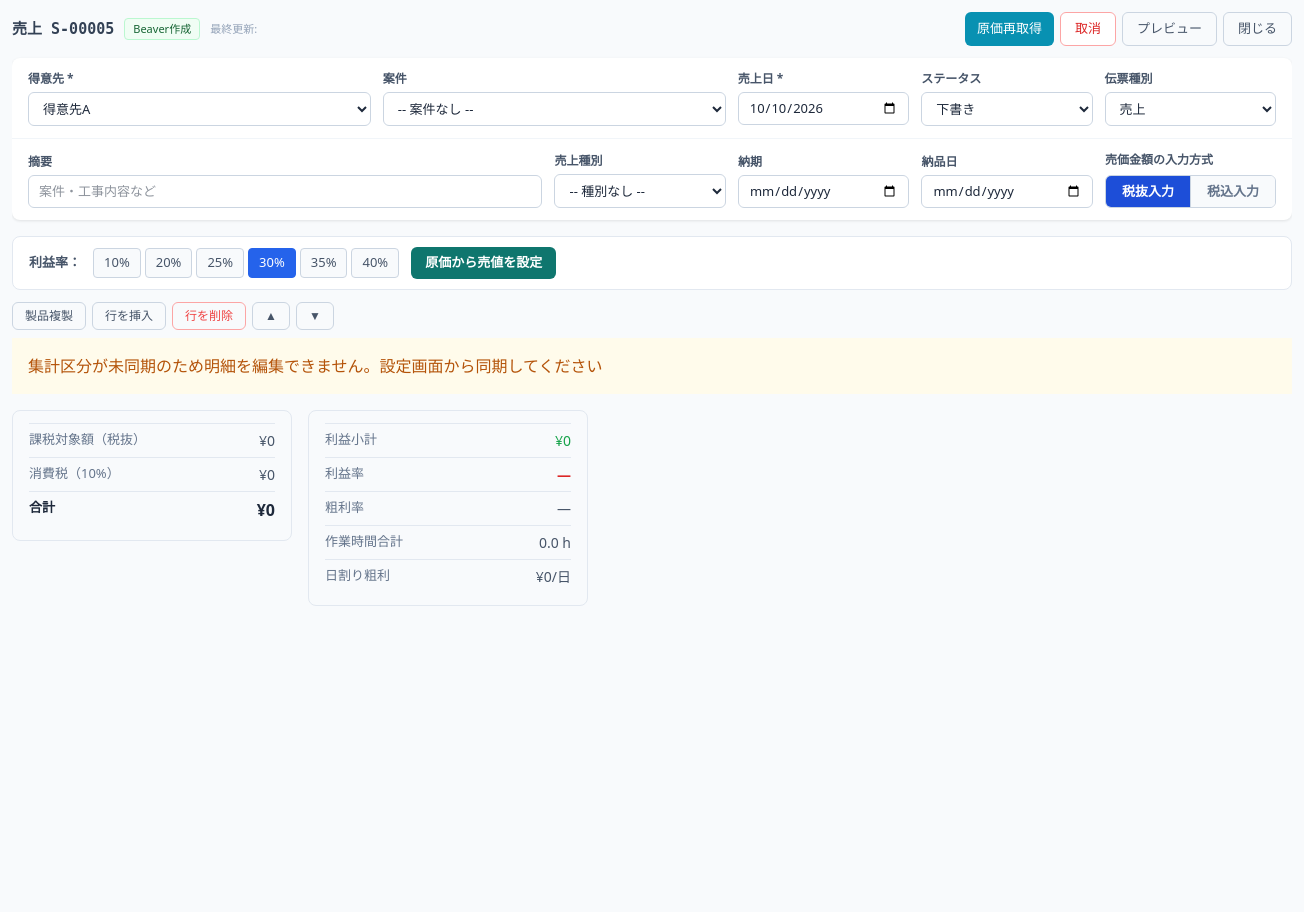
R-0164 伝票ヘッダーの自動保存と離脱警告 › 保存失敗を表示し、再試行で保存できる
Expected: the date field showing "2026-10-10" below "売上日 *" is shown, [738,92,909,125]
Type "再試行対象" into the field named "description" at (285,191), box [28,174,542,208]
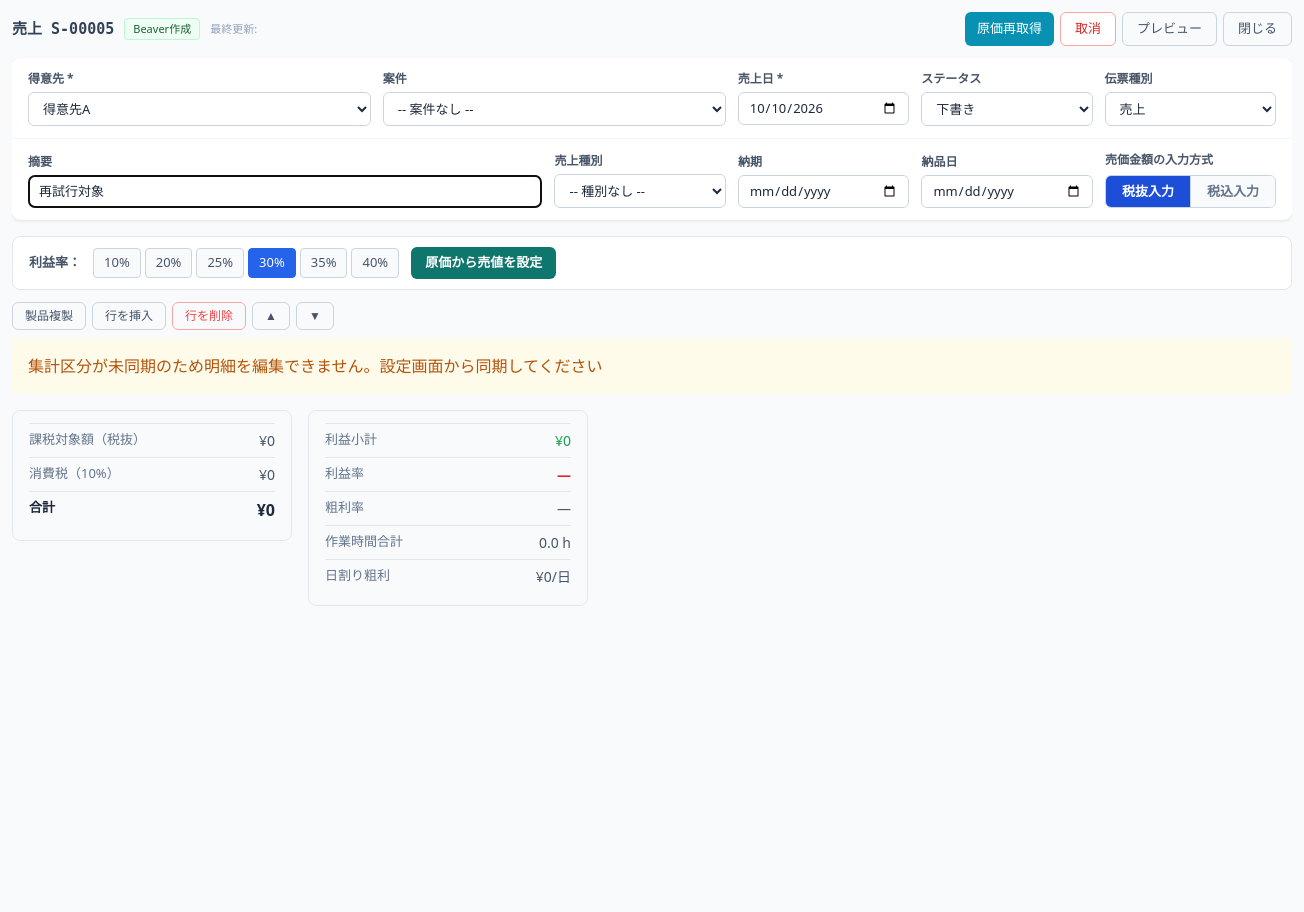
Press Tab
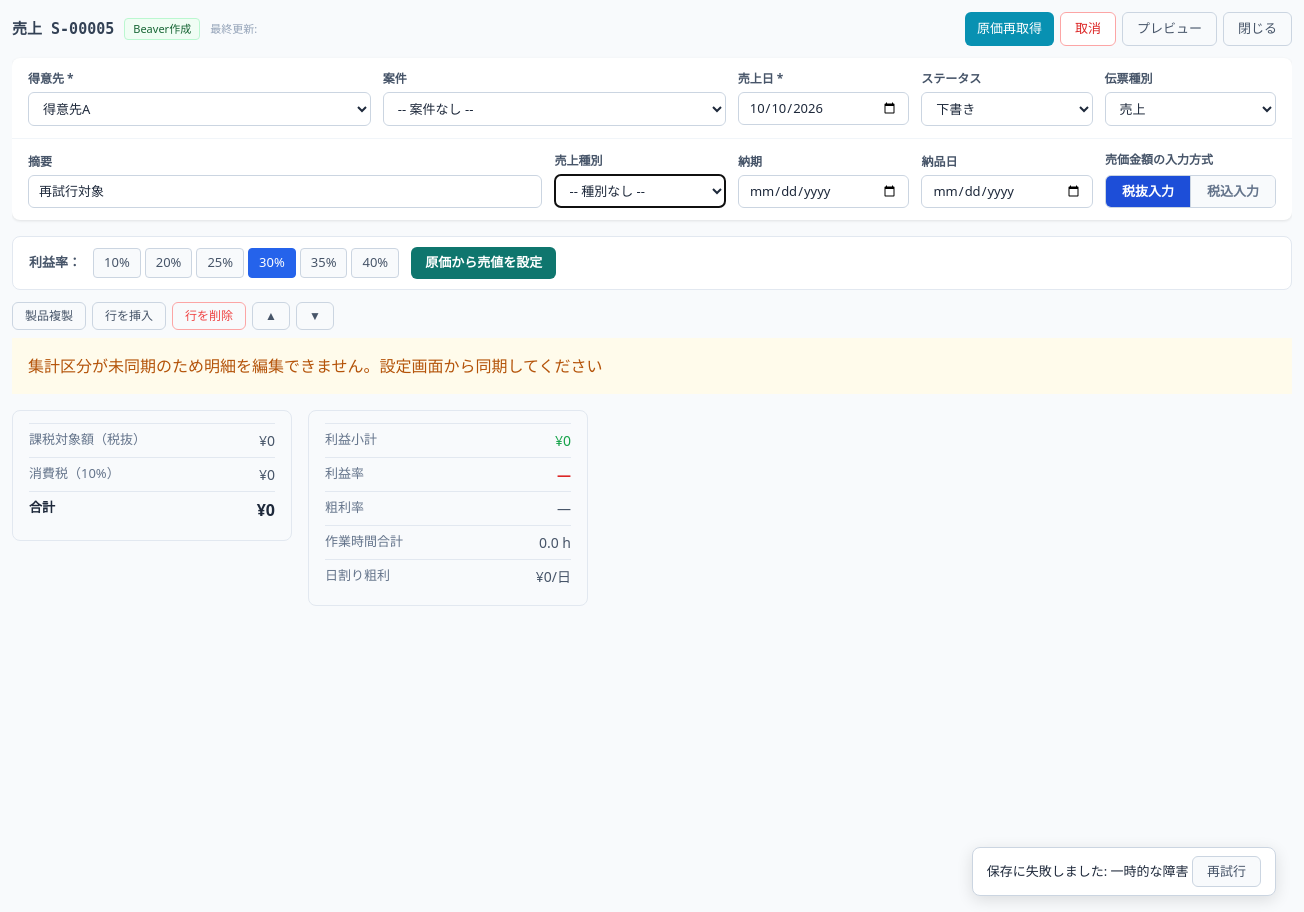
Expected: the text "保存に失敗しました: 一時的な障害 再試行" is shown, [987,856,1261,887]
Click the button "再試行" at (1226,871), box [1192,856,1261,887]
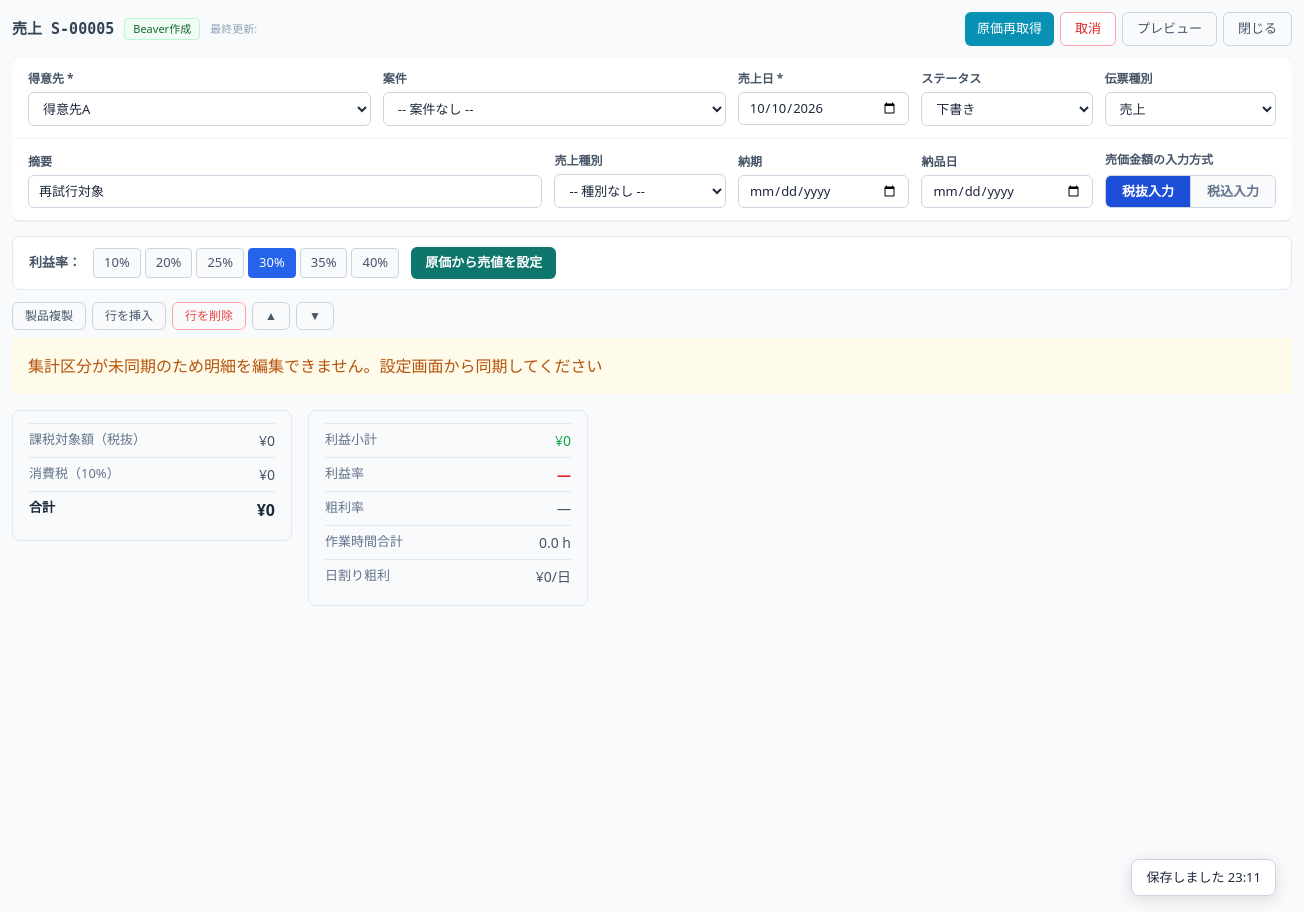
Expected: the text "保存しました 23:11" is shown, [1146,868,1261,887]
